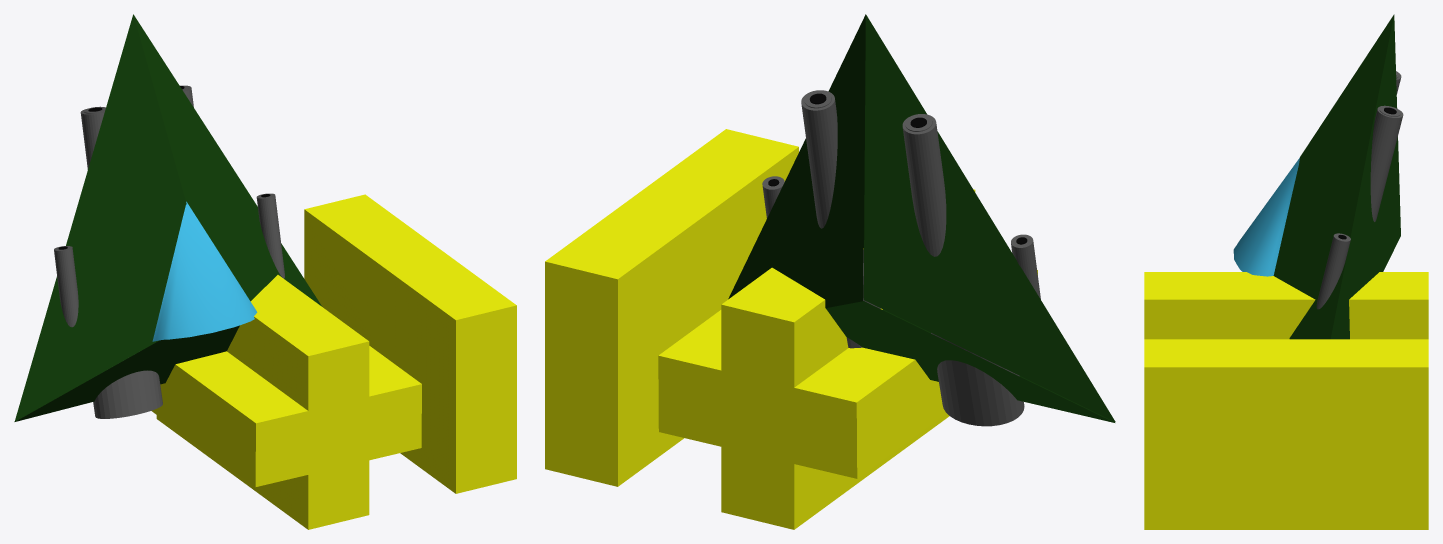
3 views of the same model, side by side, from view 1: azimuth 30°, elevation 25°; view 2: azimuth 150°, elevation 25°; view 3: azimuth 270°, elevation 25° (orthographic). The views are drawn at different scales.
Visible parts, largest first — view 1: Plane.002, Cube.005, Cube.004, Cube.003, Cone.003, Cylinder.040, Cylinder.038, Cylinder.039, Cylinder.037; view 2: Plane.002, Cube.005, Cube.004, Cube.003, Cylinder.040, Cylinder.037, Cylinder.036, Cylinder.038; view 3: Cube.005, Plane.002, Cube.003, Cone.003, Cylinder.036, Cylinder.039.
Part boxes in pixels (x1=…): Plane.002: x1=14, y1=14, x2=322, y2=421; Cube.005: x1=304, y1=194, x2=516, y2=493; Cube.004: x1=151, y1=346, x2=421, y2=487; Cube.003: x1=156, y1=275, x2=369, y2=529; Cone.003: x1=152, y1=201, x2=257, y2=341; Cylinder.040: x1=93, y1=370, x2=162, y2=418; Cylinder.038: x1=54, y1=246, x2=78, y2=327; Cylinder.039: x1=256, y1=193, x2=284, y2=278; Cylinder.037: x1=80, y1=109, x2=104, y2=169; Plane.002: x1=728, y1=14, x2=1115, y2=422; Cube.005: x1=545, y1=129, x2=798, y2=486; Cube.004: x1=658, y1=270, x2=1037, y2=478; Cube.003: x1=721, y1=189, x2=975, y2=529; Cylinder.040: x1=931, y1=333, x2=1024, y2=426; Cylinder.037: x1=902, y1=114, x2=946, y2=256; Cylinder.036: x1=801, y1=90, x2=837, y2=228; Cylinder.038: x1=1011, y1=234, x2=1040, y2=299; Cube.005: x1=1144, y1=339, x2=1428, y2=529; Plane.002: x1=1273, y1=14, x2=1400, y2=339; Cube.003: x1=1144, y1=272, x2=1428, y2=339; Cone.003: x1=1233, y1=158, x2=1299, y2=276; Cylinder.036: x1=1370, y1=105, x2=1403, y2=221; Cylinder.039: x1=1316, y1=233, x2=1350, y2=309.
Size of the model in its own units: 241 by 239 by 153.
